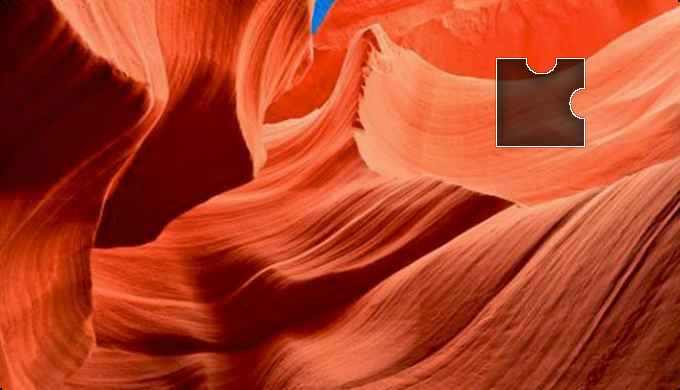gap: (495, 56, 585, 147)
